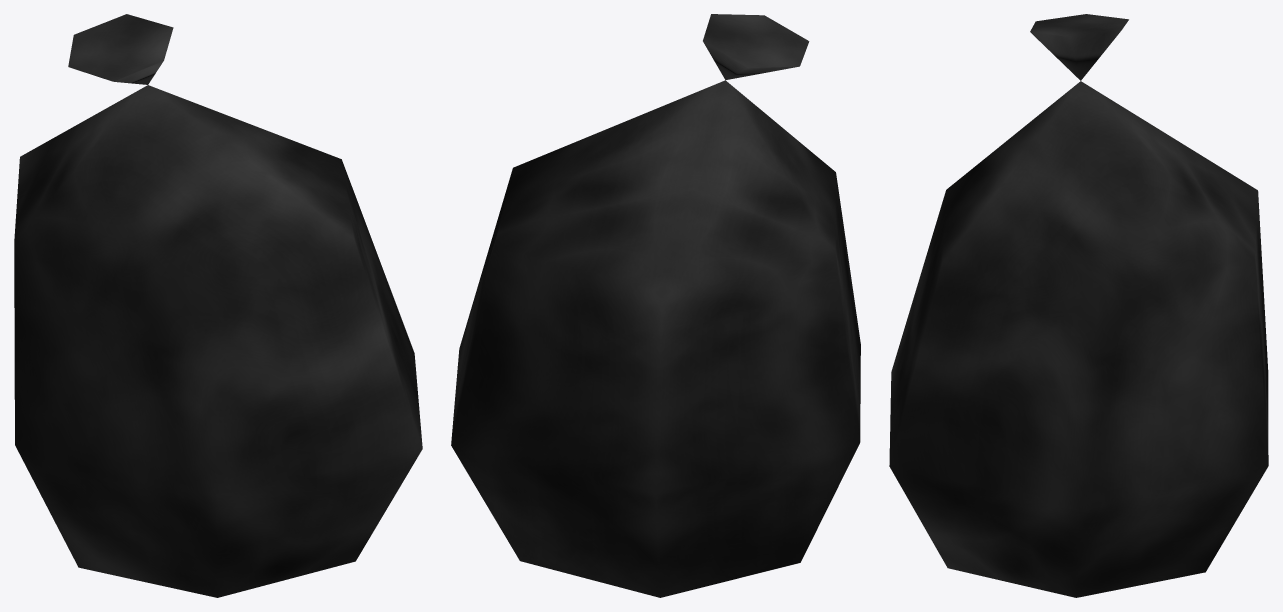
File: trash_bag.fbx
The picture shows the model from 3 angles, left to right: view 1: azimuth 30°, elevation 25°; view 2: azimuth 150°, elevation 25°; view 3: azimuth 270°, elevation 25°; orthographic projection. The views are drawn at different scales.
Parts seen in each view (by area): view 1: trash_bag; view 2: trash_bag; view 3: trash_bag.
Part boxes in pixels (bbox=[...]): trash_bag: bbox=[14, 14, 422, 597]; trash_bag: bbox=[451, 14, 860, 597]; trash_bag: bbox=[889, 14, 1268, 597].
Size of the model in its own units: 0.7167 by 0.929 by 0.6343.
Materials: 1 (1 with a texture image).
